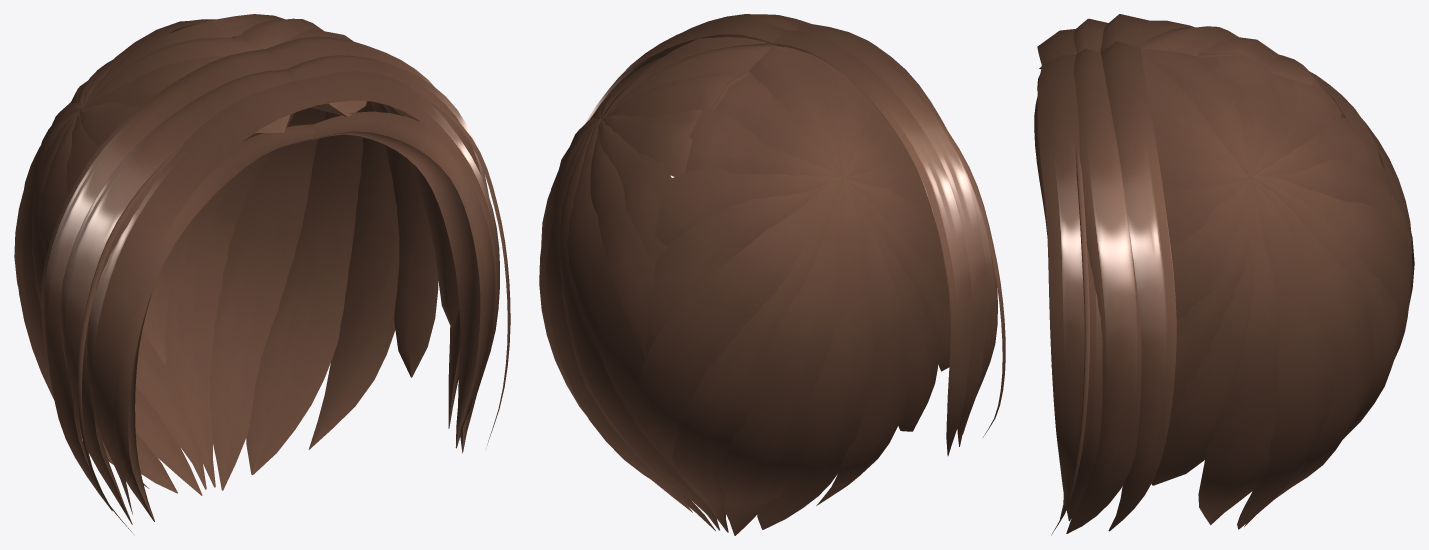
The model's file is hair_deck.glb.
3 views of the same model, side by side, from view 1: azimuth 30°, elevation 25°; view 2: azimuth 150°, elevation 25°; view 3: azimuth 270°, elevation 25° (orthographic). The views are drawn at different scales.
Visible parts, largest first — view 1: Hair017, Hair018, Hair004, Hair001, Hair016, Hair041, Hair040, Hair008, Hair042, Hair014, Hair003, Hair024 (+22 smaller); view 2: Hair034, Hair035, Hair033, Hair024, Hair040, Hair019, Hair023, Hair032, Hair001, Hair008, Hair007, Hair022 (+20 smaller); view 3: Hair002, Hair003, Hair039, Hair017, Hair016, Hair018, Hair014, Hair019, Hair008, Hair015, Hair013, Hair009 (+18 smaller).
Boxes of the visible parts, x1,y1,x2,y2 form: Hair017: (246, 110, 363, 474); Hair018: (209, 107, 326, 490); Hair004: (87, 80, 315, 514); Hair001: (60, 69, 295, 524); Hair016: (308, 101, 399, 449); Hair041: (310, 111, 493, 448); Hair040: (41, 49, 282, 510); Hair008: (165, 133, 269, 487); Hair042: (113, 124, 315, 521); Hair014: (370, 101, 438, 377); Hair003: (299, 70, 499, 434); Hair024: (41, 107, 206, 489); Hair034: (718, 177, 844, 535); Hair035: (639, 173, 846, 467); Hair033: (757, 174, 873, 529); Hair024: (672, 171, 845, 532); Hair040: (773, 29, 972, 455); Hair019: (567, 118, 684, 480); Hair023: (644, 177, 839, 362); Hair032: (816, 187, 907, 505); Hair001: (796, 26, 987, 446); Hair008: (559, 113, 719, 530); Hair007: (590, 119, 655, 360); Hair022: (654, 168, 836, 246); Hair002: (1066, 48, 1141, 533); Hair003: (1037, 55, 1102, 521); Hair039: (1100, 41, 1176, 531); Hair017: (1237, 174, 1334, 529); Hair016: (1198, 185, 1280, 525); Hair018: (1244, 177, 1373, 526); Hair014: (1151, 182, 1255, 485); Hair019: (1245, 175, 1412, 358); Hair008: (1245, 173, 1400, 438); Hair015: (1171, 181, 1250, 413); Hair013: (1171, 179, 1250, 320); Hair009: (1198, 53, 1282, 174).
Bounding box in the file's own units: 0.1378 × 0.1494 × 0.1066.
1 material, 1 textured.
